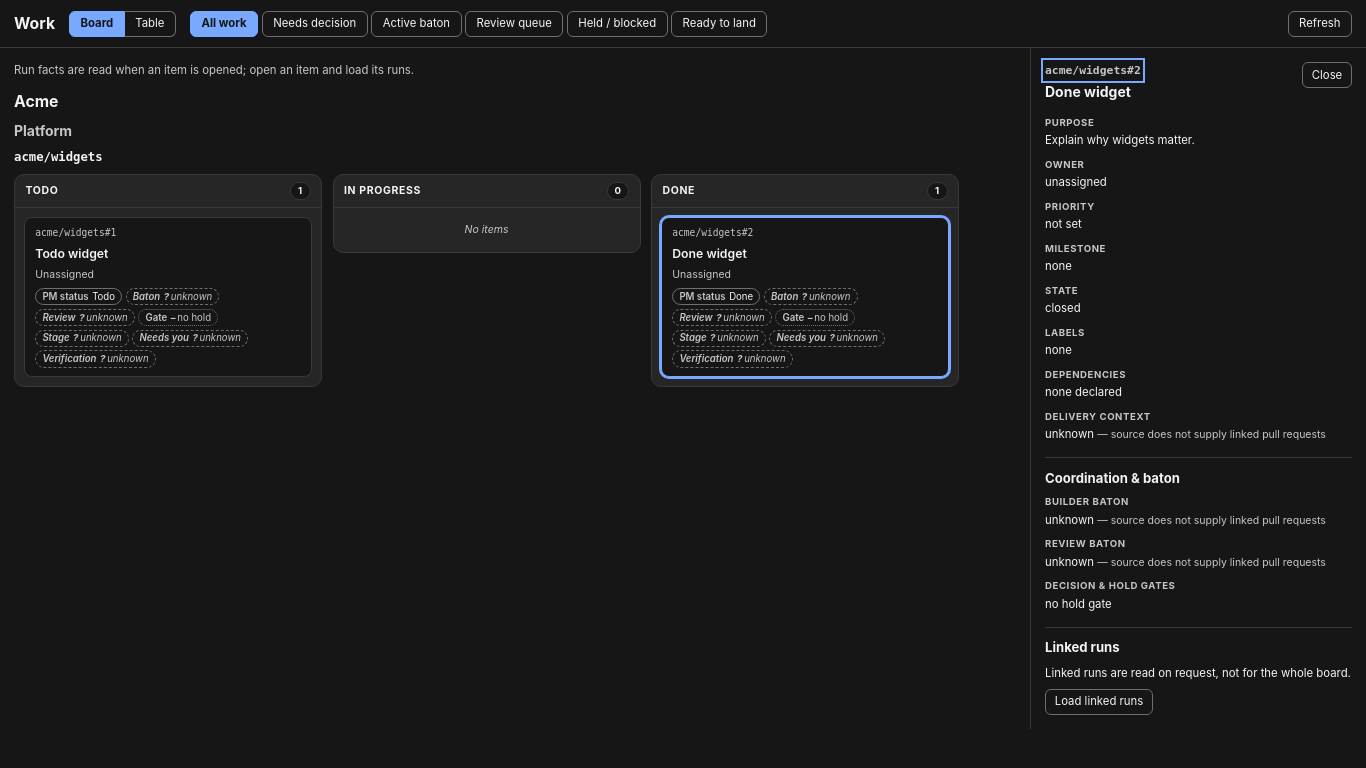
it: /work page › restores the open item from ?item= and closes it
The image size is (1366, 768).
Click the button with test id "work-overview-close".
click(1327, 75)  # box 1302,62 -> 1352,88
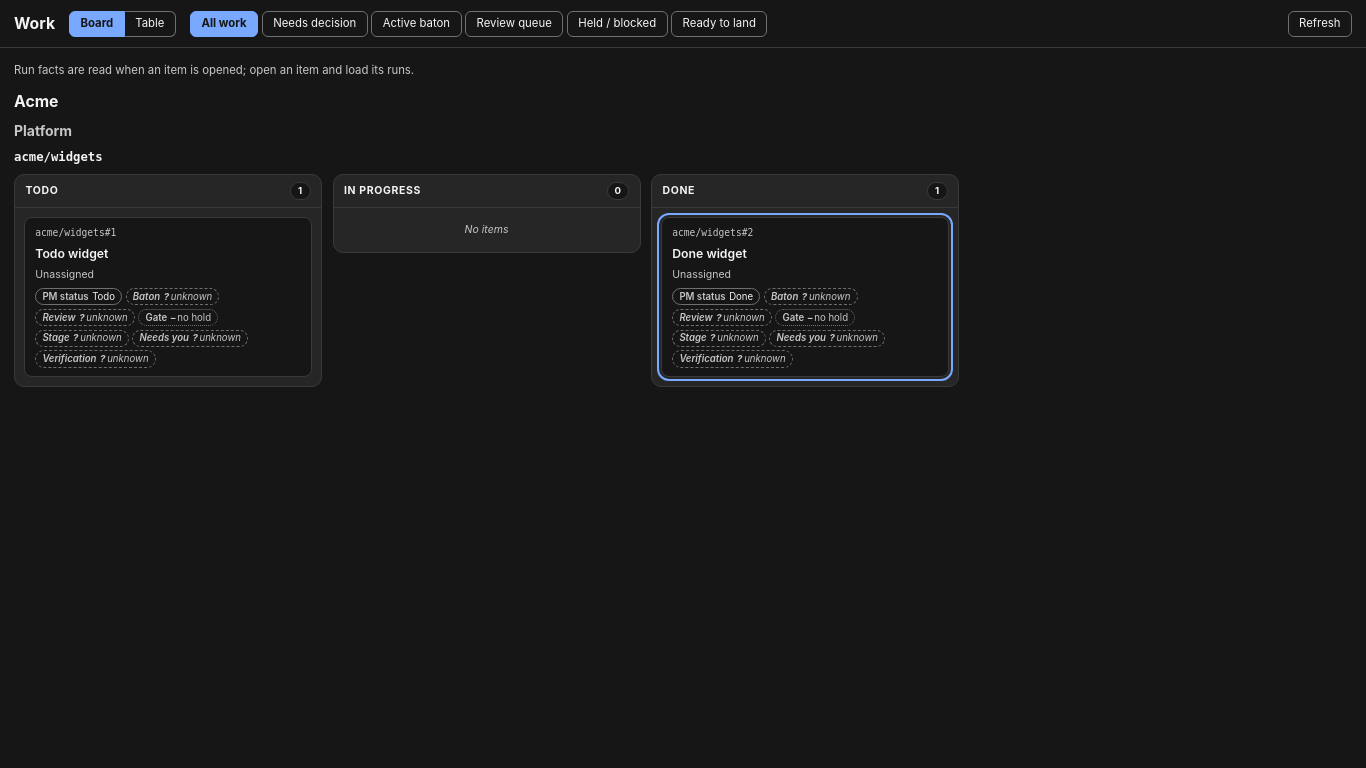
Expected: the element with test id "work-item-overview" is gone
